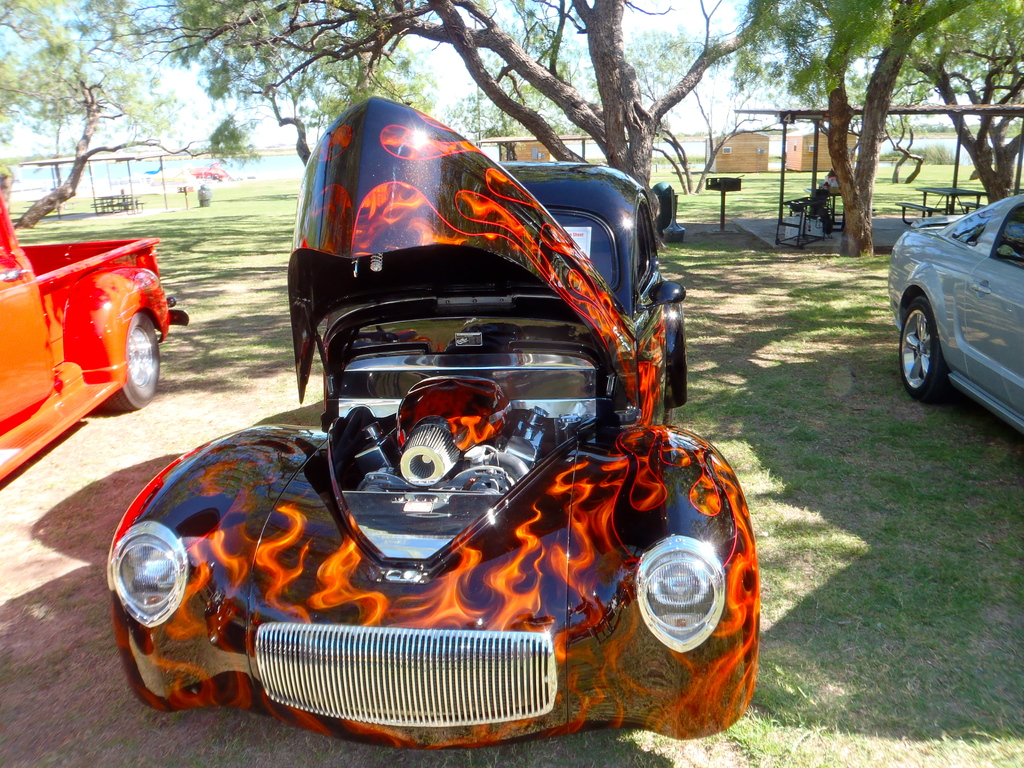Car: (106, 95, 757, 750), (0, 187, 190, 483), (883, 183, 1022, 432)
